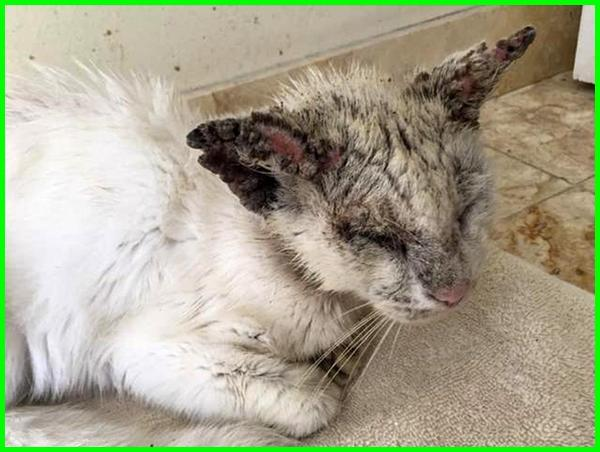kudis: (180, 110, 352, 212), (401, 22, 548, 131)
